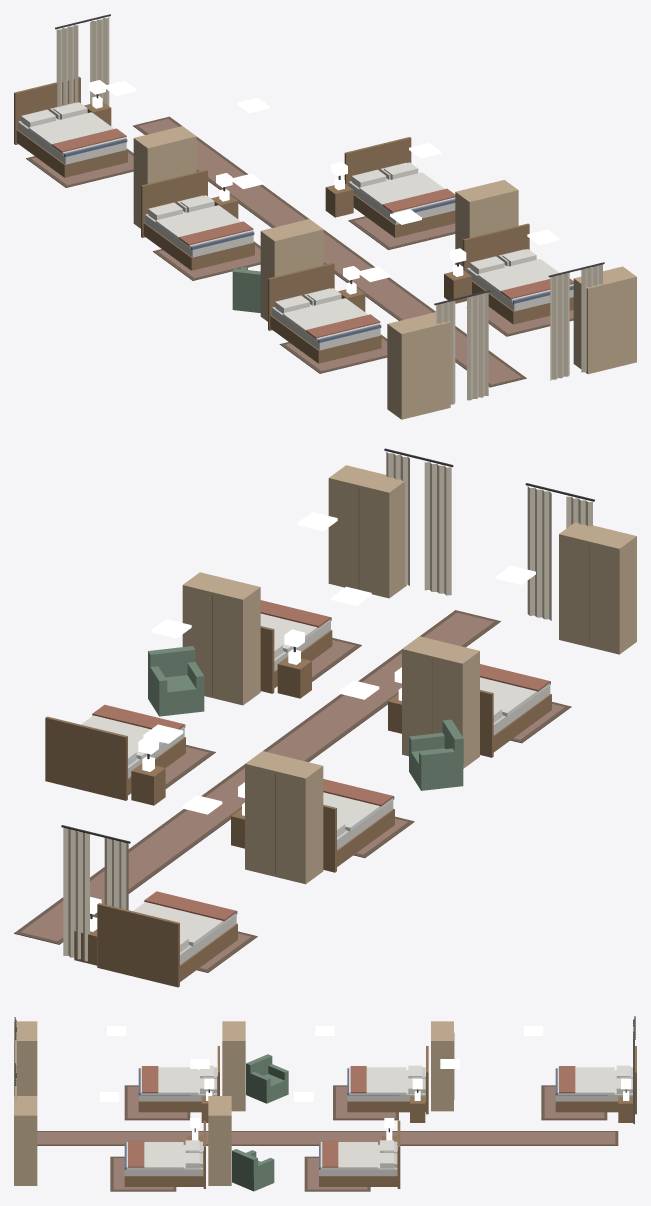
Rendered from fine-s2.glb.
The picture shows the model from 3 angles, top to bottom: view 1: azimuth 30°, elevation 25°; view 2: azimuth 150°, elevation 25°; view 3: azimuth 270°, elevation 25°; orthographic projection. The views are drawn at different scales.
Visible parts, largest first — view 1: soft-s2, dresser.009, dresser.006, bed-frame.009, bed-frame.008, bed-frame.007, bed-frame.005, bed-frame.006, dresser.007, dresser.008, dresser.005, lounge-chair.003 (+2 smaller); view 2: soft-s2, dresser.007, dresser.009, dresser.006, dresser.005, dresser.008, bed-frame.007, bed-frame.005, lounge-chair.002, lounge-chair.003, bed-frame.008, bed-frame.009 (+3 smaller); view 3: soft-s2, dresser.005, dresser.006, dresser.008, dresser.007, bed-frame.005, bed-frame.006, dresser.009, lounge-chair.003, bed-frame.008, bed-frame.009, bed-frame.007 (+3 smaller).
Boxes of the visible parts, bbox=[...] form: soft-s2: bbox=[21, 14, 604, 404]; dresser.009: bbox=[387, 312, 450, 419]; dresser.006: bbox=[573, 266, 636, 374]; bed-frame.009: bbox=[268, 262, 381, 363]; bed-frame.008: bbox=[141, 169, 254, 270]; bed-frame.007: bbox=[14, 76, 127, 177]; bed-frame.005: bbox=[344, 137, 455, 237]; bed-frame.006: bbox=[463, 223, 573, 324]; dresser.007: bbox=[133, 126, 196, 228]; dresser.008: bbox=[260, 219, 323, 321]; dresser.005: bbox=[455, 180, 518, 266]; lounge-chair.003: bbox=[232, 267, 260, 312]; soft-s2: bbox=[14, 448, 594, 972]; dresser.007: bbox=[245, 751, 323, 884]; dresser.009: bbox=[559, 522, 636, 654]; dresser.006: bbox=[328, 465, 406, 598]; dresser.005: bbox=[182, 572, 260, 705]; dresser.008: bbox=[402, 636, 479, 768]; bed-frame.007: bbox=[97, 903, 237, 987]; bed-frame.005: bbox=[45, 716, 185, 800]; lounge-chair.002: bbox=[148, 646, 204, 716]; lounge-chair.003: bbox=[409, 719, 463, 790]; bed-frame.008: bbox=[323, 796, 394, 872]; bed-frame.009: bbox=[480, 681, 551, 757]; soft-s2: bbox=[14, 1016, 635, 1191]; dresser.005: bbox=[208, 1096, 231, 1185]; dresser.006: bbox=[14, 1096, 37, 1185]; dresser.008: bbox=[222, 1021, 245, 1111]; dresser.007: bbox=[431, 1021, 454, 1111]; bed-frame.005: bbox=[319, 1120, 400, 1188]; bed-frame.006: bbox=[124, 1120, 205, 1188]; dresser.009: bbox=[14, 1021, 37, 1095]; lounge-chair.003: bbox=[246, 1054, 288, 1103]; bed-frame.008: bbox=[347, 1046, 428, 1114]; bed-frame.009: bbox=[138, 1046, 219, 1112]; bed-frame.007: bbox=[555, 1046, 636, 1114].
Bounding box in the file's own units: 6.46 × 2.51 × 16.08.
